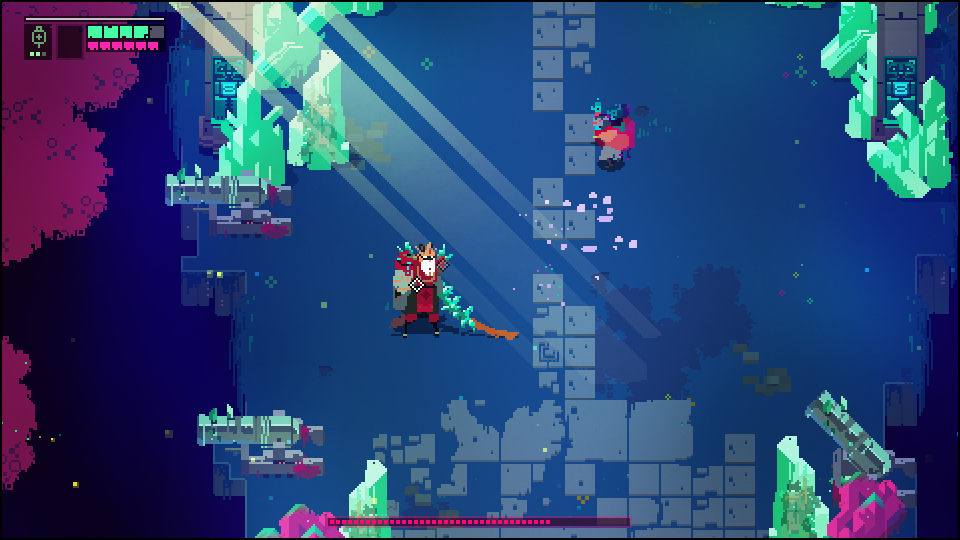hanged_man: (383, 238, 482, 346)
player: (590, 116, 634, 170)
